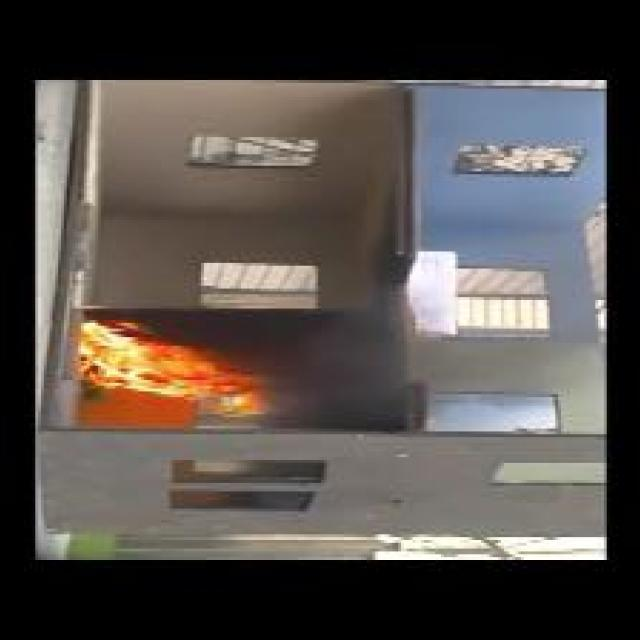Fire: (76, 322, 273, 416)
